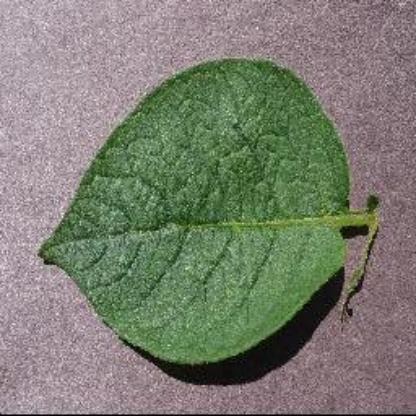Healthy-plant: (34, 51, 384, 367)
